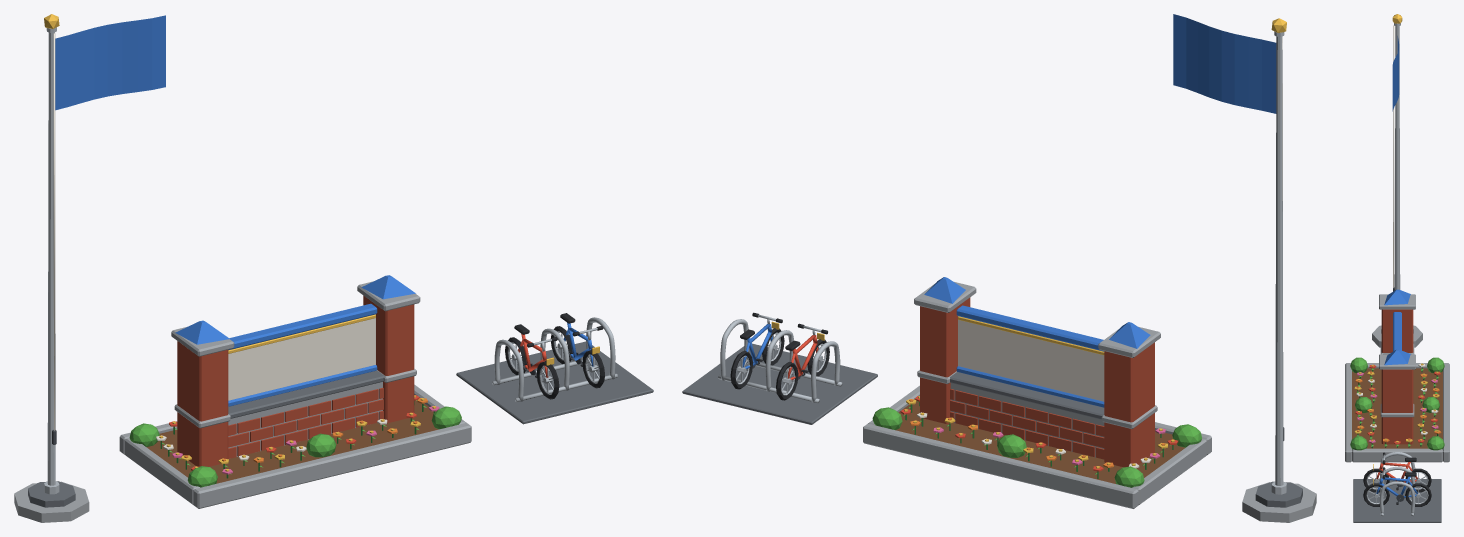
Rendered from school-sign-set.glb.
3 renders of one model, left to right at view 1: azimuth 30°, elevation 25°; view 2: azimuth 150°, elevation 25°; view 3: azimuth 270°, elevation 25°, orthographic. The views are drawn at different scales.
Parts seen in each view (by area): view 1: FlowerBed_Curb, Flag, Sign_NameBoard, BikeRack_Pad, Sign_Pillar_L, Sign_Bricks, FlowerBed_Soil, Sign_Pillar_R, Flagpole_Pole, BikeRack_Hoops, FlowerBed_Shrubs, Sign_BaseCap (+11 smaller); view 2: FlowerBed_Curb, Flag, Sign_NameBoard, BikeRack_Pad, Sign_Pillar_L, Sign_Bricks, FlowerBed_Soil, Sign_Pillar_R, Flagpole_Pole, BikeRack_Hoops, FlowerBed_Shrubs, Sign_BaseCap (+10 smaller); view 3: FlowerBed_Soil, BikeRack_Pad, FlowerBed_Curb, Sign_Pillar_R, FlowerBed_Flowers, FlowerBed_Shrubs, Flagpole_Pole, Sign_Pillar_L, BikeRack_Hoops, Flagpole_Rope, Flag, Bicycle_Blue_Frame (+12 smaller).
Part boxes in pixels (<box>): FlowerBed_Curb: <box>119,384,471,508</box>; Flag: <box>55,15,165,110</box>; Sign_NameBoard: <box>228,314,375,400</box>; BikeRack_Pad: <box>456,341,653,424</box>; Sign_Pillar_L: <box>177,341,228,466</box>; Sign_Bricks: <box>228,388,383,458</box>; FlowerBed_Soil: <box>146,399,438,483</box>; Sign_Pillar_R: <box>363,295,414,423</box>; Flagpole_Pole: <box>47,32,55,485</box>; BikeRack_Hoops: <box>492,317,617,401</box>; FlowerBed_Shrubs: <box>129,406,461,487</box>; Sign_BaseCap: <box>228,370,383,418</box>; FlowerBed_Curb: <box>863,385,1211,508</box>; Flag: <box>1173,14,1276,113</box>; Sign_NameBoard: <box>958,316,1104,401</box>; BikeRack_Pad: <box>682,343,877,424</box>; Sign_Pillar_L: <box>1104,342,1154,467</box>; Sign_Bricks: <box>950,389,1104,459</box>; FlowerBed_Soil: <box>895,401,1185,483</box>; Sign_Pillar_R: <box>920,297,970,423</box>; Flagpole_Pole: <box>1275,36,1283,485</box>; BikeRack_Hoops: <box>718,319,842,402</box>; FlowerBed_Shrubs: <box>872,407,1201,487</box>; Sign_BaseCap: <box>950,372,1104,419</box>; FlowerBed_Soil: <box>1352,368,1442,448</box>; BikeRack_Pad: <box>1353,479,1441,522</box>; FlowerBed_Curb: <box>1345,363,1449,462</box>; Sign_Pillar_R: <box>1381,369,1413,444</box>; FlowerBed_Flowers: <box>1354,363,1441,448</box>; FlowerBed_Shrubs: <box>1350,357,1444,450</box>; Flagpole_Pole: <box>1394,26,1400,290</box>; Sign_Pillar_L: <box>1381,309,1413,352</box>; BikeRack_Hoops: <box>1379,452,1415,516</box>; Flagpole_Rope: <box>1393,25,1394,287</box>; Flag: <box>1392,36,1399,111</box>; Bicycle_Blue_Frame: <box>1373,467,1417,504</box>.
Size of the model in its own units: 39.5 by 30.9 by 9.
